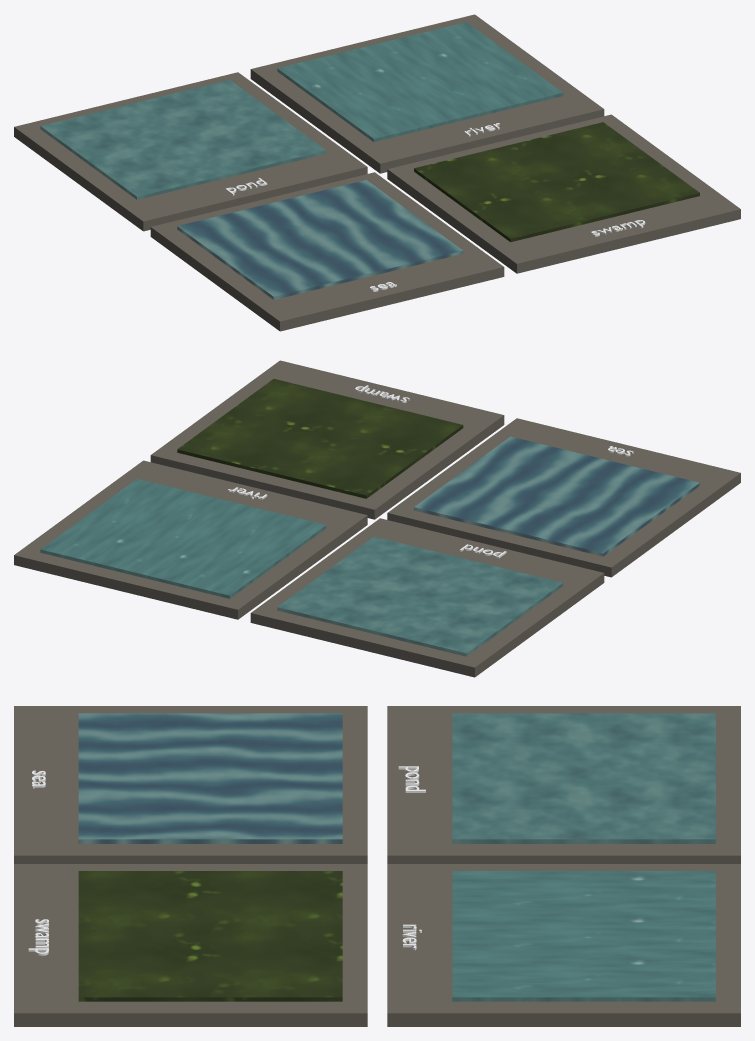
The model's file is mat_water.glb.
3 views of the same model, one above another, from view 1: azimuth 30°, elevation 25°; view 2: azimuth 150°, elevation 25°; view 3: azimuth 270°, elevation 25° (orthographic). The views are drawn at different scales.
Parts seen in each view (by area): view 1: basin, river, swamp, sea, pond, label; view 2: basin, swamp, river, pond, sea, label; view 3: basin, swamp, sea, pond, river, label.
Part boxes in pixels (x1,y1,x2,y2): basin: (14, 14, 740, 331); river: (277, 22, 563, 141); swamp: (414, 122, 699, 242); sea: (177, 180, 463, 299); pond: (40, 80, 326, 199); label: (225, 123, 645, 291); basin: (14, 360, 740, 677); swamp: (177, 379, 463, 498); river: (40, 479, 326, 598); pond: (277, 536, 563, 656); sea: (414, 436, 699, 556); label: (227, 385, 633, 558); basin: (14, 706, 740, 1026); swamp: (78, 871, 342, 1001); sea: (78, 713, 342, 843); pond: (452, 713, 715, 843); river: (452, 871, 715, 1001); label: (28, 766, 425, 955).
Bounding box in the file's own units: 0.292 × 0.008 × 0.292.
Materials: 6 (4 with a texture image).
